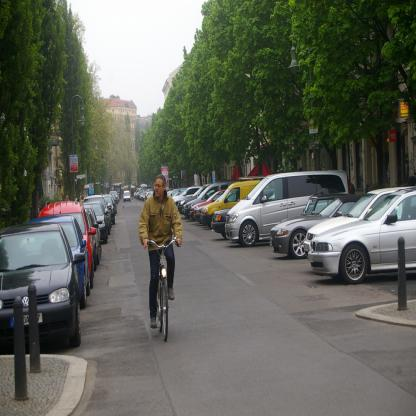Car: (132, 169, 416, 283), (0, 194, 120, 346), (122, 189, 131, 200)
